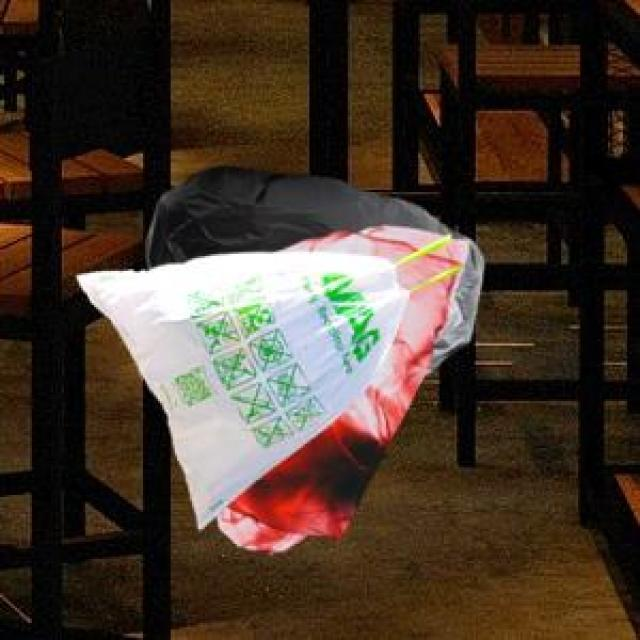miscellaneous trash: (141, 162, 480, 371)
